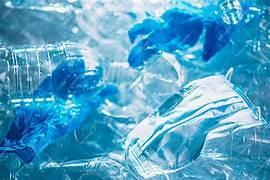Iv_Bottle: (0, 42, 101, 110)
